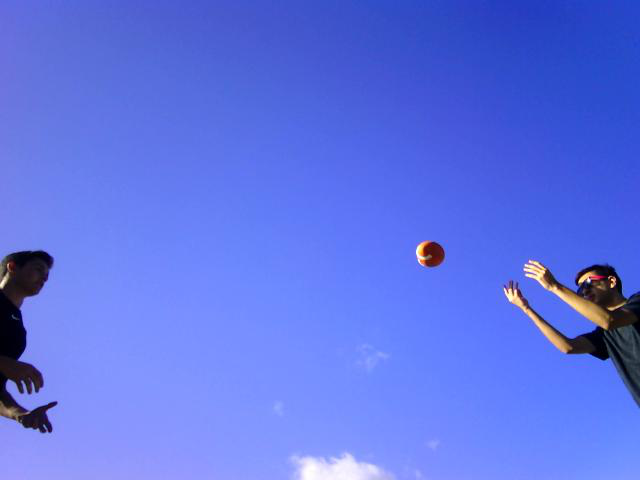football: (415, 238, 449, 274)
